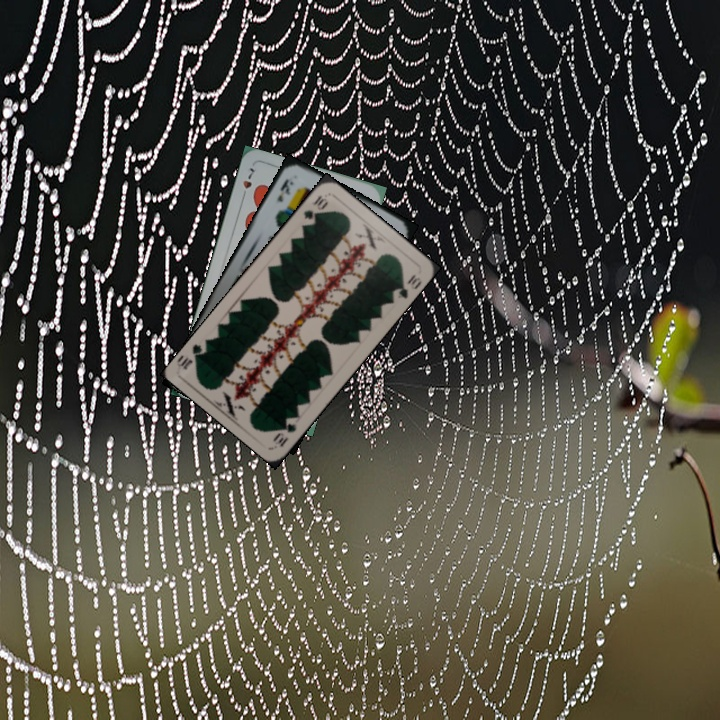EK: (273, 175, 296, 205)
G10: (269, 412, 300, 450), (299, 191, 331, 223)
H7: (238, 163, 258, 202)
